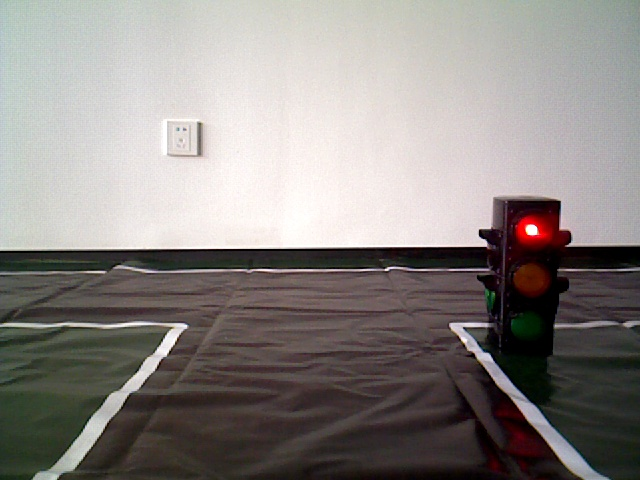red: (493, 198, 553, 355)
